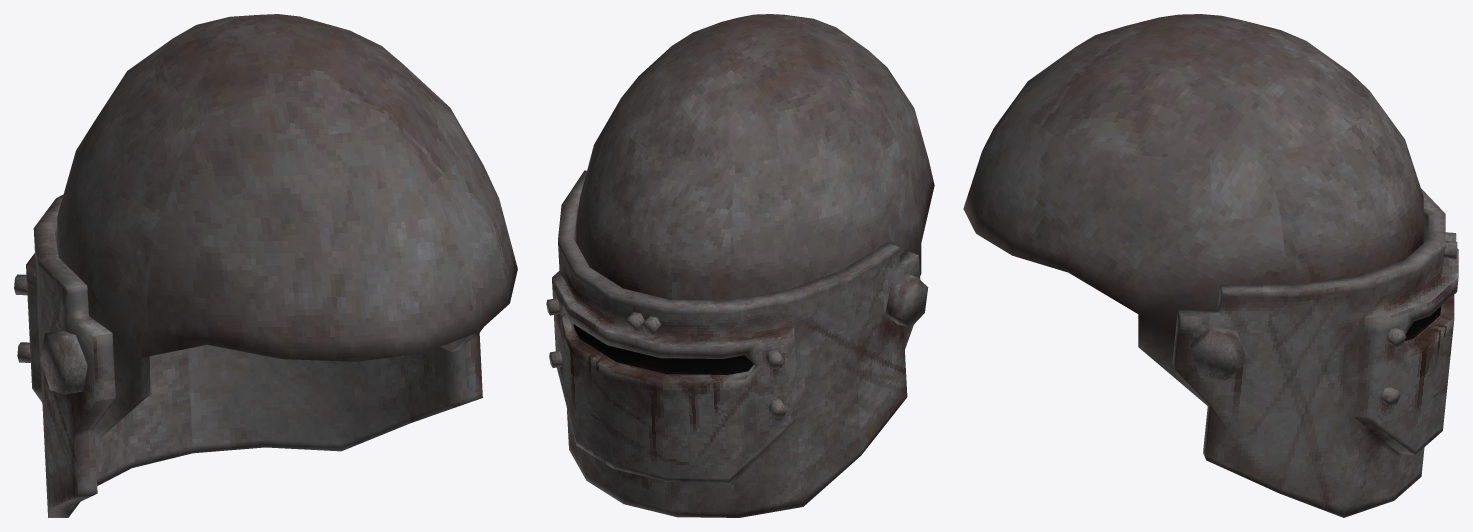
File: maska_helmet.glb
3 views of the same model, side by side, from view 1: azimuth 30°, elevation 25°; view 2: azimuth 150°, elevation 25°; view 3: azimuth 270°, elevation 25° (orthographic). The views are drawn at different scales.
Parts seen in each view (by area): view 1: cosmetic_maska helmet; view 2: cosmetic_maska helmet; view 3: cosmetic_maska helmet.
Boxes of the visible parts, x1,y1,x2,y2 form: cosmetic_maska helmet: [14, 14, 517, 517]; cosmetic_maska helmet: [546, 14, 934, 517]; cosmetic_maska helmet: [963, 14, 1458, 517].
Bounding box in the file's own units: 0.6032 × 0.6806 × 0.701.
Materials: 1 (1 with a texture image).
